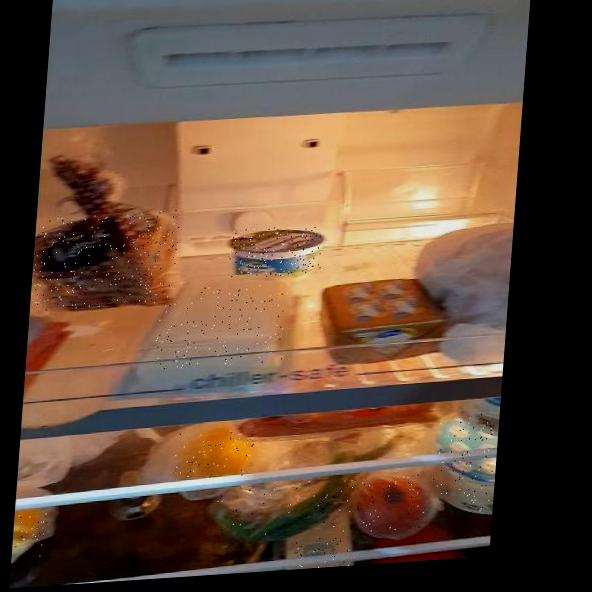bread: (31, 210, 182, 311)
butter: (321, 276, 445, 363)
cheese: (153, 282, 291, 370)
green chilies: (212, 478, 356, 540)
lemon: (171, 429, 256, 481), (14, 509, 48, 558)
milk: (285, 534, 357, 570)
tomato: (356, 474, 434, 535)
yoghurt: (434, 413, 497, 514), (228, 224, 326, 279)
